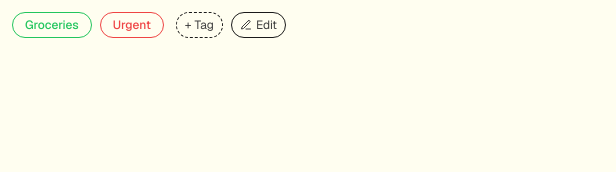
it: TagFilter › shows edit form when Edit tag button is clicked in edit mode
Click the button "Edit" at (259, 25), box [231,12,286,38]
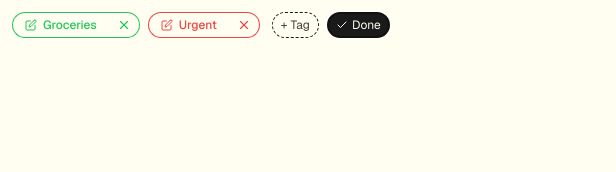
// Click the edit button for the first tag
Click the button titled "Edit tag" at (60, 25), box [12,12,109,38]
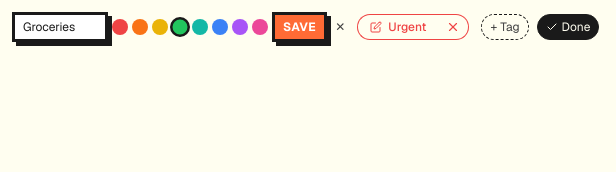
Expected: the field showing "Groceries" is shown, [12,12,108,42]
Expected: the button "Save" is shown, [272,12,327,42]
